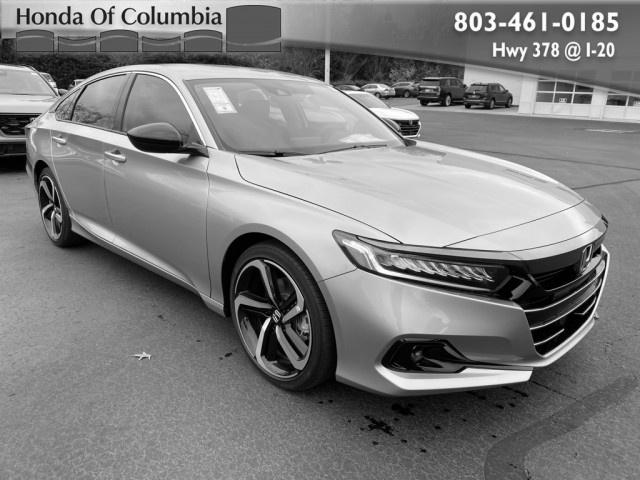Car hood: (221, 139, 609, 258)
Driver-s door - -F-R-: (99, 57, 212, 307)
Fender - -F-R-: (199, 139, 384, 320)
Fender - -R-R-: (23, 96, 69, 191)
Front bumper: (309, 240, 617, 396)
Headlight - -R-: (330, 229, 539, 307)
Passenger-s door - -R-R-: (49, 57, 135, 262)
Side bumper - -R-: (60, 213, 219, 320)
Side mirror - -R-: (127, 122, 206, 160)
